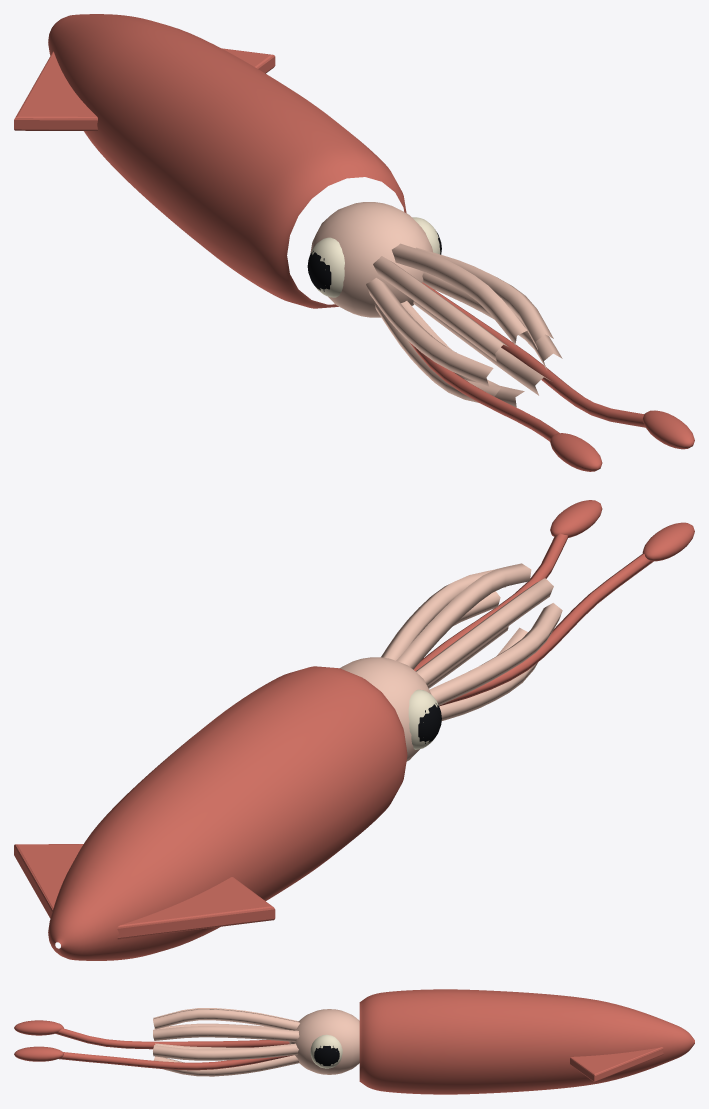
File: squid.glb
3 views of the same model, one above another, from view 1: azimuth 30°, elevation 25°; view 2: azimuth 150°, elevation 25°; view 3: azimuth 270°, elevation 25° (orthographic). The views are drawn at different scales.
Parts seen in each view (by area): view 1: SquidMantleAssembly, SquidArmAssembly, TentacleAssembly, SquidHead, SquidEyeRingAssembly, SquidEyeAssembly; view 2: SquidMantleAssembly, SquidArmAssembly, TentacleAssembly, SquidHead, SquidEyeRingAssembly; view 3: SquidMantleAssembly, SquidArmAssembly, TentacleAssembly, SquidHead, SquidEyeRingAssembly, SquidEyeAssembly.
Boxes of the visible parts, x1,y1,x2,y2 form: SquidMantleAssembly: (14, 14, 406, 308); SquidArmAssembly: (366, 243, 562, 407); TentacleAssembly: (409, 282, 694, 471); SquidHead: (310, 202, 432, 317); SquidEyeRingAssembly: (311, 217, 440, 297); SquidEyeAssembly: (307, 233, 441, 291); SquidMantleAssembly: (14, 666, 407, 960); SquidArmAssembly: (381, 563, 562, 720); TentacleAssembly: (413, 500, 694, 706); SquidHead: (340, 657, 431, 761); SquidEyeRingAssembly: (408, 689, 438, 749); SquidMantleAssembly: (359, 989, 694, 1094); SquidArmAssembly: (153, 1008, 299, 1076); TentacleAssembly: (14, 1020, 292, 1070); SquidHead: (289, 1009, 359, 1074); SquidEyeRingAssembly: (310, 1034, 342, 1068); SquidEyeAssembly: (314, 1046, 339, 1065).
Bounding box in the file's own units: 0.3501 × 0.2117 × 1.36.
